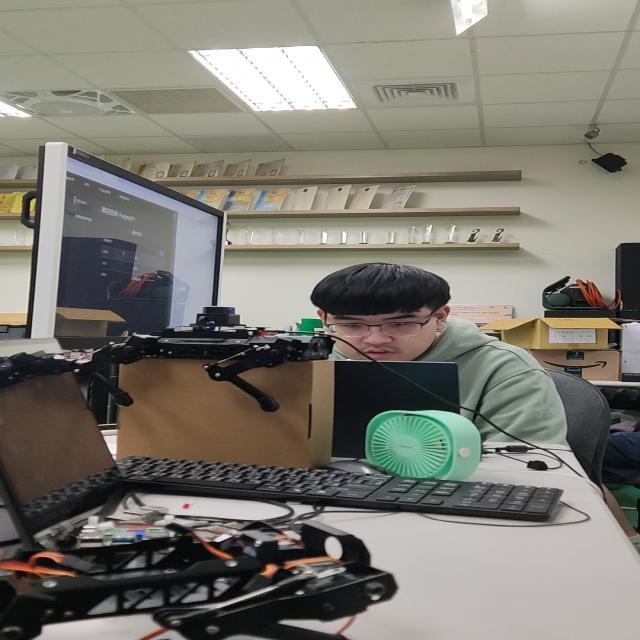person: (298, 247, 571, 453)
